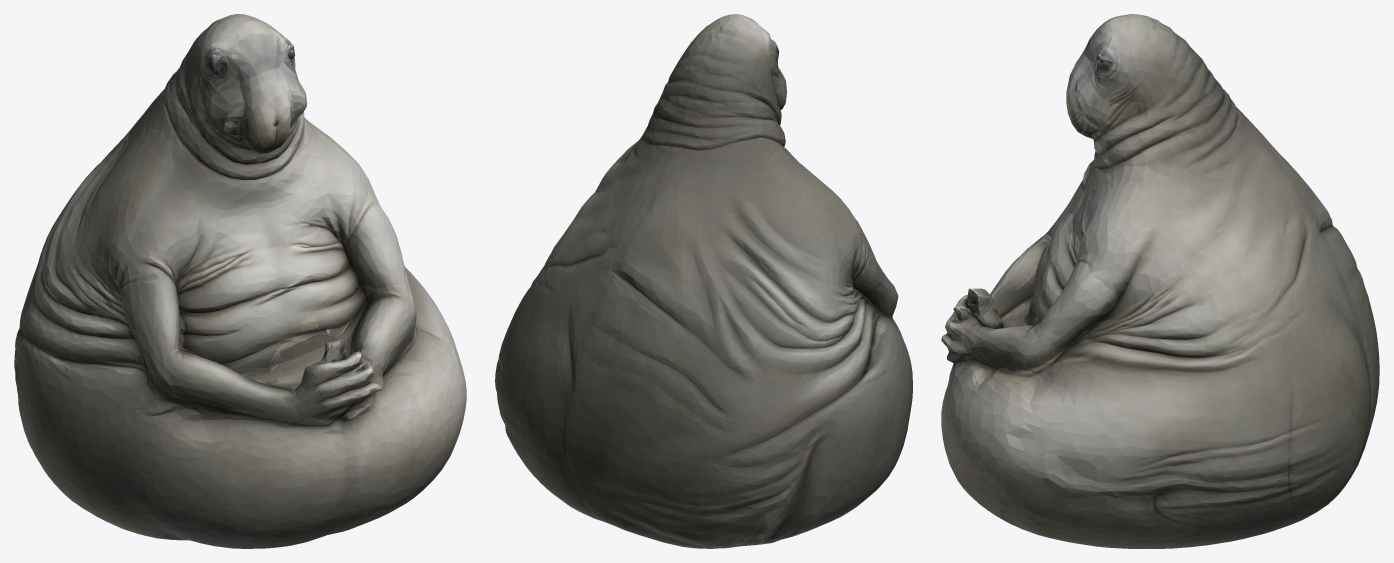
Rendered from Waiting_Walrus_0425134946_texture.fbx.
The picture shows the model from 3 angles, left to right: view 1: azimuth 30°, elevation 25°; view 2: azimuth 150°, elevation 25°; view 3: azimuth 270°, elevation 25°; orthographic projection. The views are drawn at different scales.
Visible parts, largest first — view 1: temp; view 2: temp; view 3: temp.
Part boxes in pixels (<box>): temp: <box>14,14,466,548</box>; temp: <box>495,14,912,548</box>; temp: <box>941,14,1379,548</box>.
Size of the model in its own units: 161 by 200 by 166.
1 material, 1 textured.
